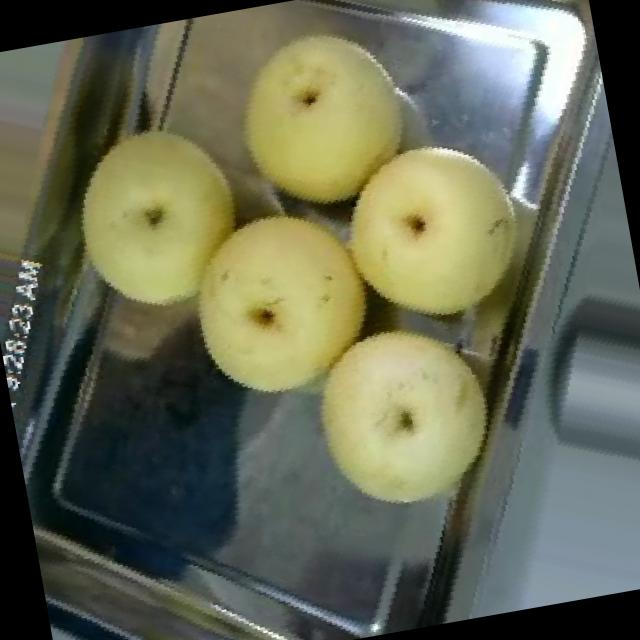Fruit: (101, 0, 458, 270), (143, 161, 412, 443), (25, 82, 284, 350), (303, 98, 566, 356), (272, 291, 524, 547), (0, 28, 175, 303)
